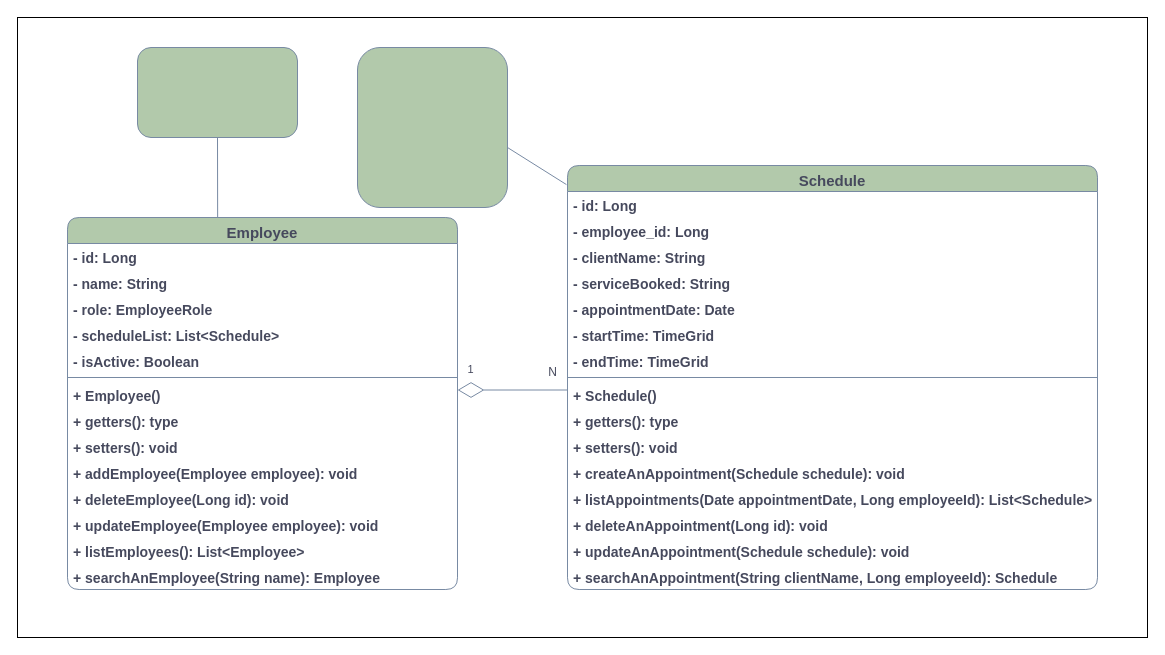
This 1165x655 diagram has some shape labels left out. Each missing label, with the box of its shape:
<<Enumeration>> EmployeeRole + HairStylist + Manicure: (136, 46, 298, 138)
<<Enumeration>> TimeGrid + 8:00 + 8:30 * * + 22:00: (356, 46, 508, 208)
